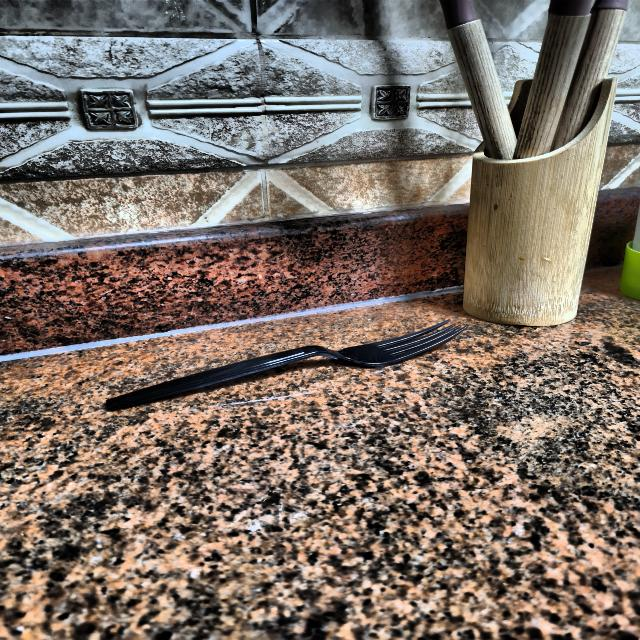plastic utensil: (98, 318, 475, 419)
